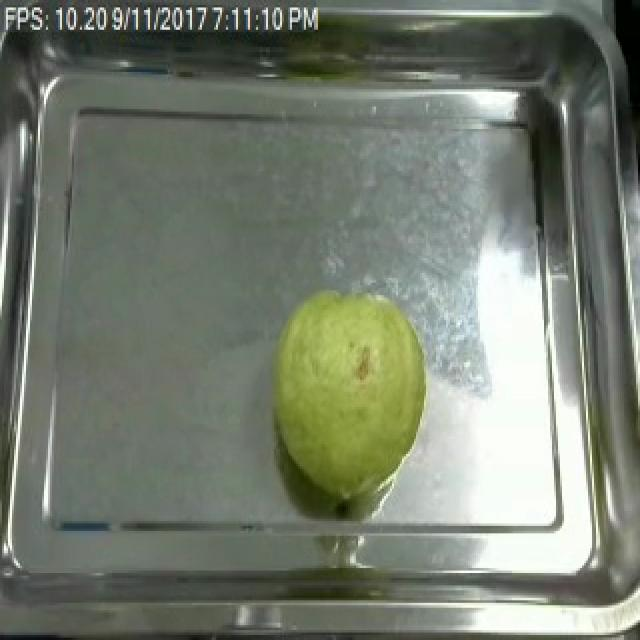Fruit: (262, 277, 436, 498)
